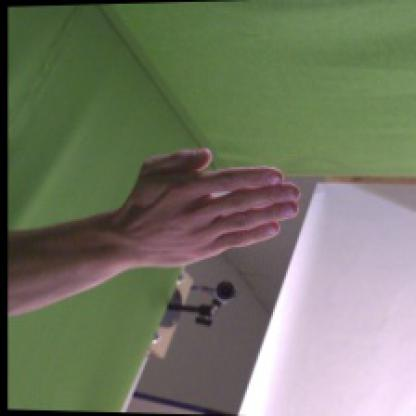Hand: (118, 148, 300, 270)
